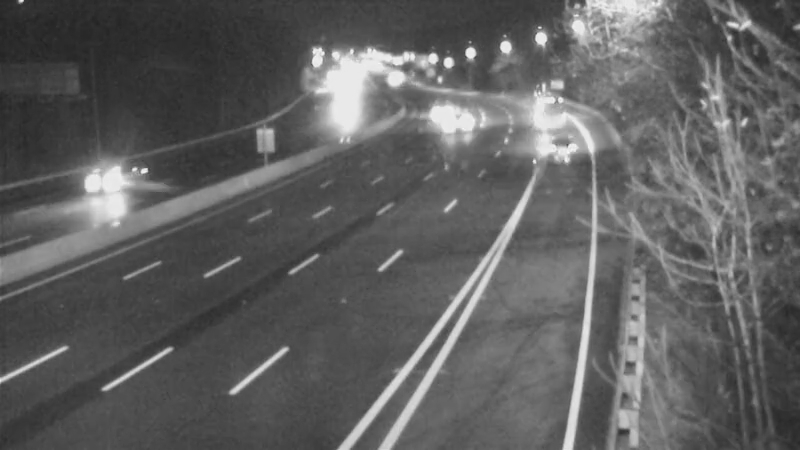vehicle: (519, 118, 599, 198), (64, 140, 144, 220), (521, 82, 571, 132), (410, 87, 460, 137), (433, 95, 483, 145)
